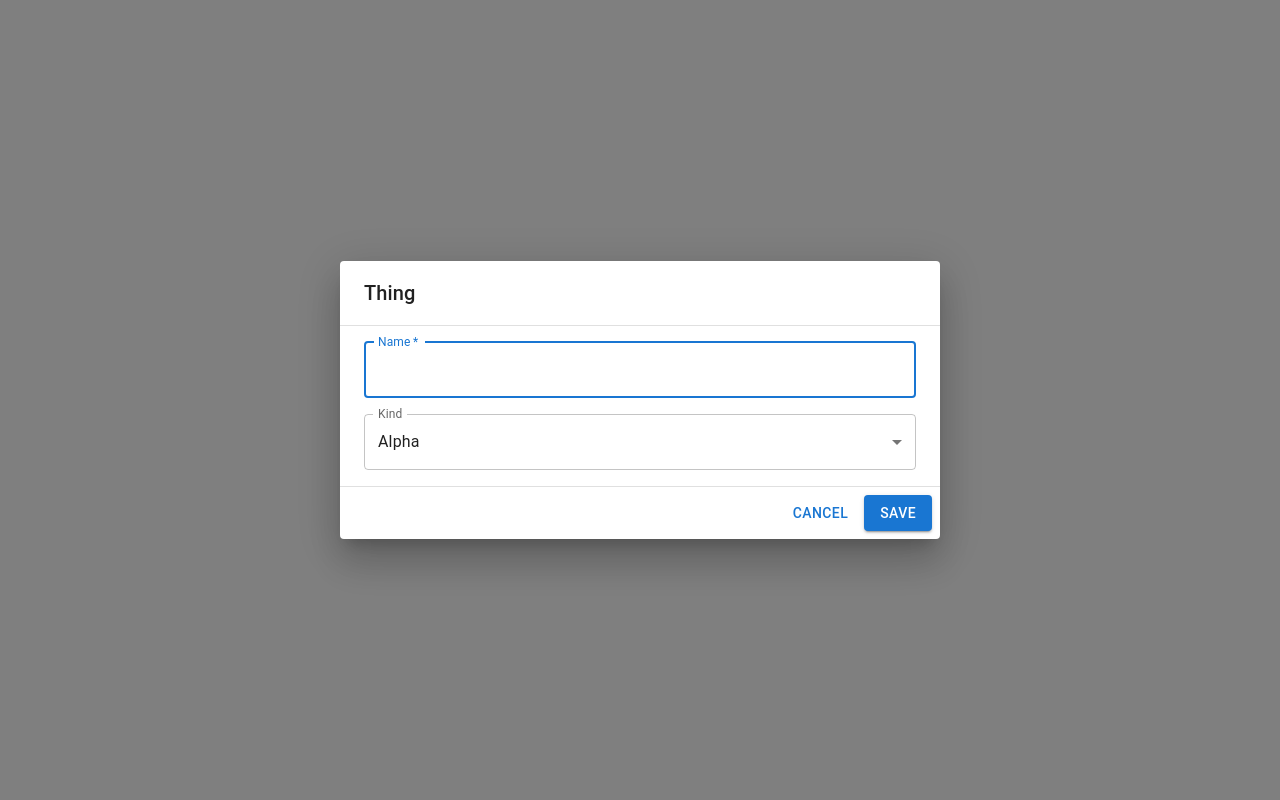
submits trimmed values and maps server field errors
Type "  Widget " into the field labelled "Name *".
click(640, 370); type("  Widget ")  # box [364,342,916,398]
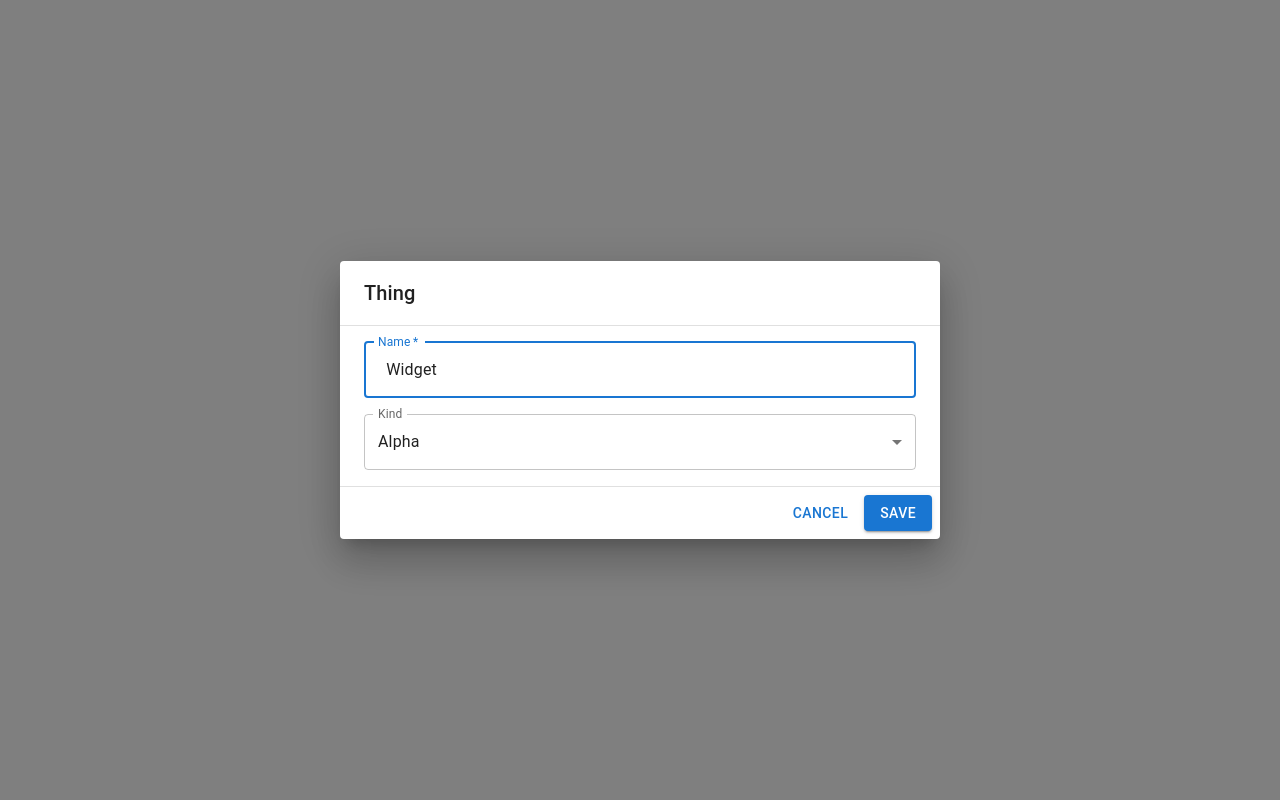
Click the button "Save".
click(898, 513)  # box [864,495,932,531]
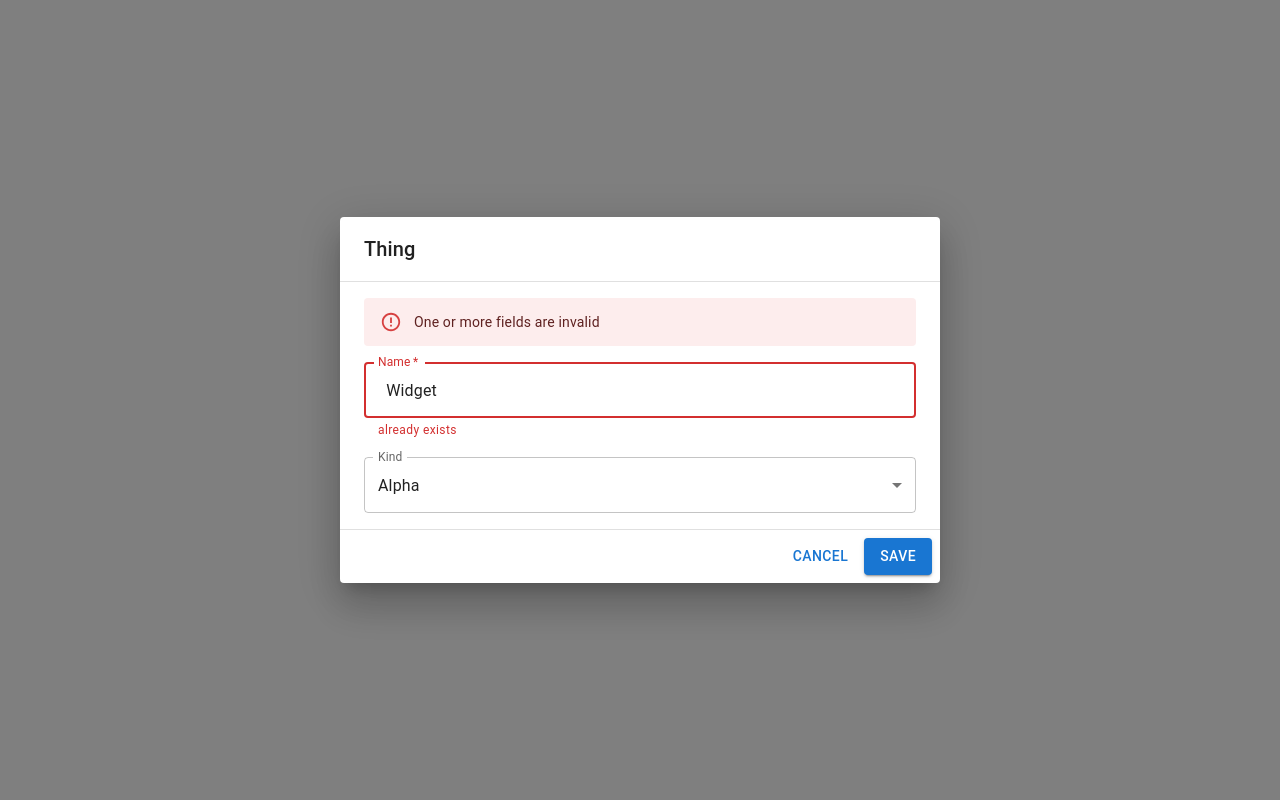
Expected: the text "already exists" is shown, [378,423,457,437]
Expected: the text "One or more fields are invalid" is shown, [414,314,600,330]
